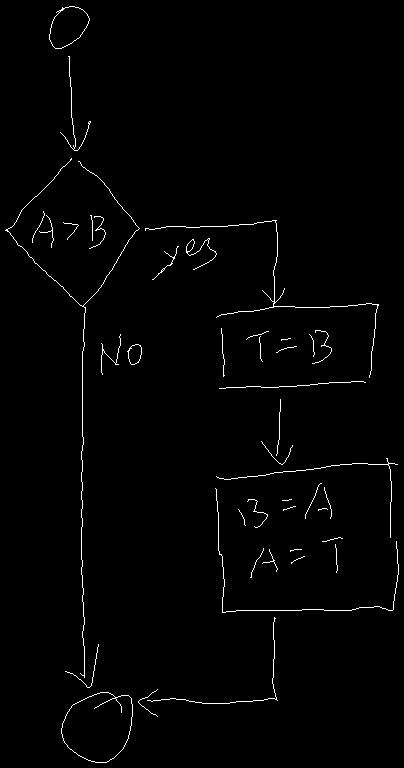arrow: (138, 617, 277, 716), (65, 307, 98, 687), (145, 220, 284, 307), (60, 56, 90, 150), (261, 399, 292, 464)
connection: (61, 692, 132, 762), (49, 6, 89, 48)
decision: (5, 158, 139, 306)
process: (215, 458, 398, 612), (216, 303, 378, 388)
text: (238, 483, 342, 577), (246, 330, 331, 363), (32, 211, 105, 248), (152, 238, 216, 279), (101, 334, 141, 374)
